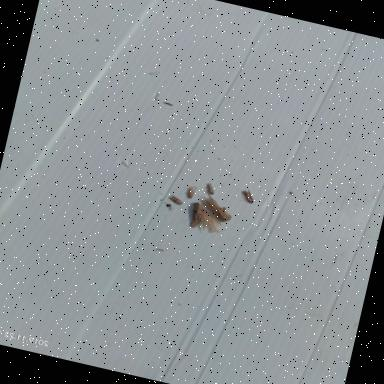abw: (186, 201, 226, 238), (194, 191, 236, 224)
pbw: (239, 188, 257, 205), (166, 193, 186, 207), (184, 184, 196, 200), (204, 182, 217, 196)
